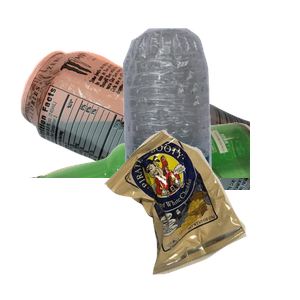glass: (23, 120, 263, 300)
metal: (18, 48, 258, 228)
plastic: (111, 26, 300, 206)
trash: (101, 127, 300, 300)
